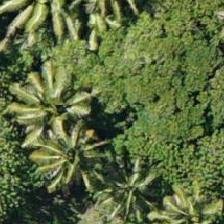coconut_tree: (22, 110, 112, 200), (5, 56, 95, 146), (91, 148, 181, 223), (143, 169, 223, 223), (0, 0, 83, 46)
